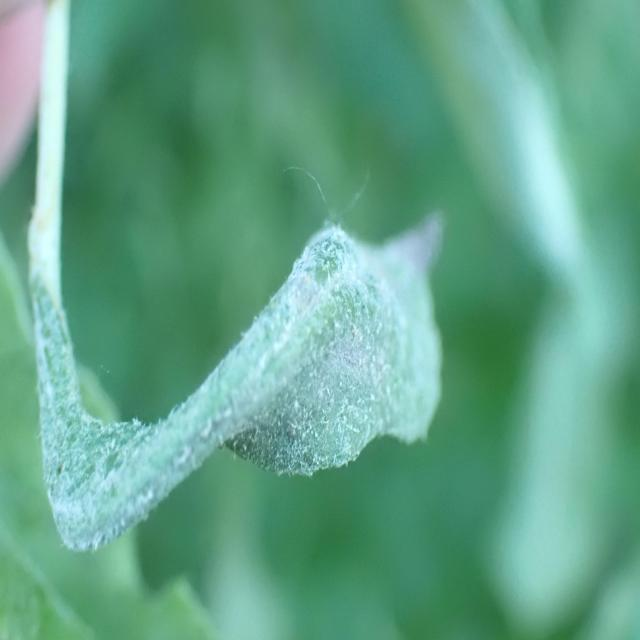Powdery_mildew: (16, 225, 491, 564)
